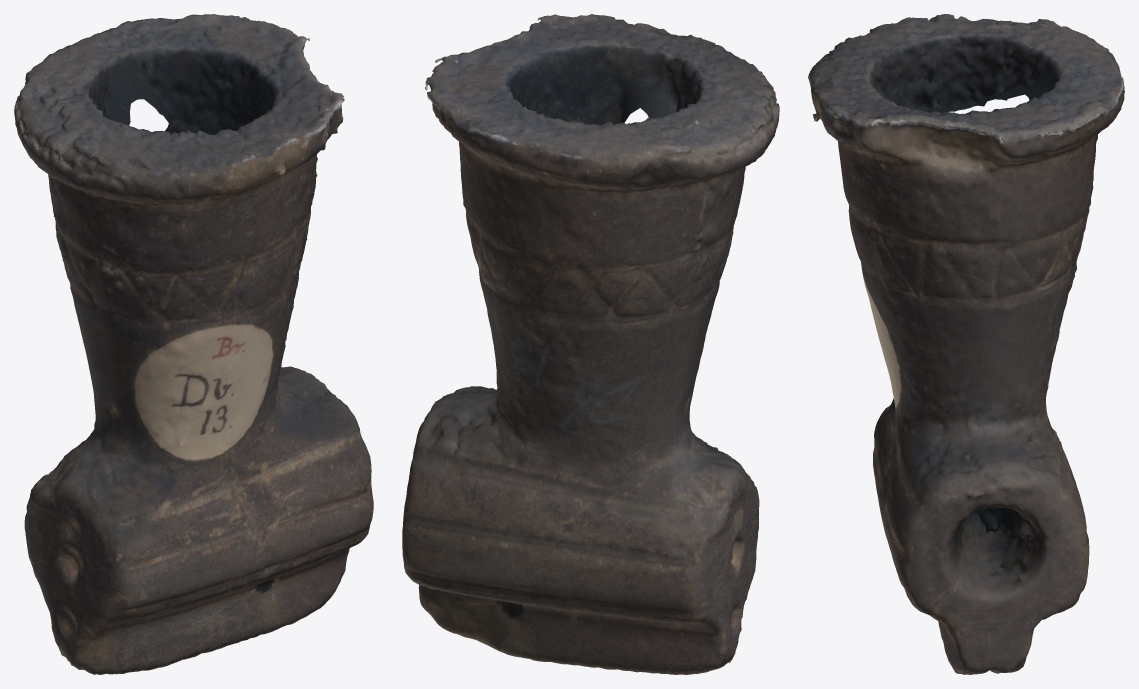
The model's file is stone-pipe.glb.
The picture shows the model from 3 angles, left to right: view 1: azimuth 30°, elevation 25°; view 2: azimuth 150°, elevation 25°; view 3: azimuth 270°, elevation 25°; orthographic projection. The views are drawn at different scales.
Parts seen in each view (by area): view 1: stone-pipe; view 2: stone-pipe; view 3: stone-pipe.
Part boxes in pixels (<box>): stone-pipe: <box>14,14,373,674</box>; stone-pipe: <box>402,14,779,674</box>; stone-pipe: <box>808,14,1124,674</box>.
Bounding box in the file's own units: 0.7083 × 1.24 × 0.6371.
1 material, 1 textured.
